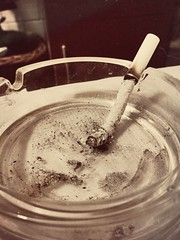cigarette: (84, 30, 162, 151)
